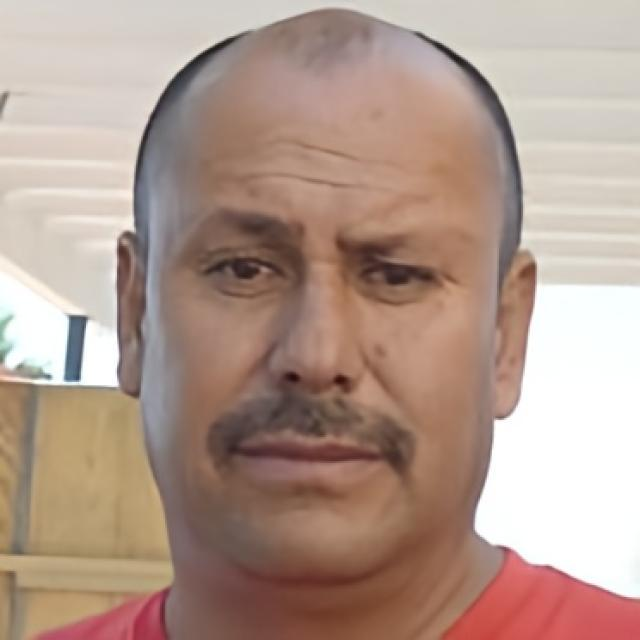disgust: (146, 83, 497, 579)
